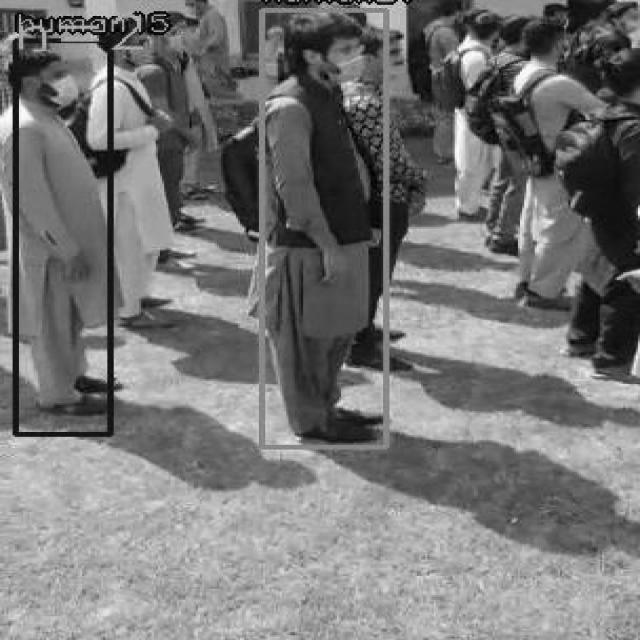person: (258, 8, 386, 446), (12, 39, 110, 434)
